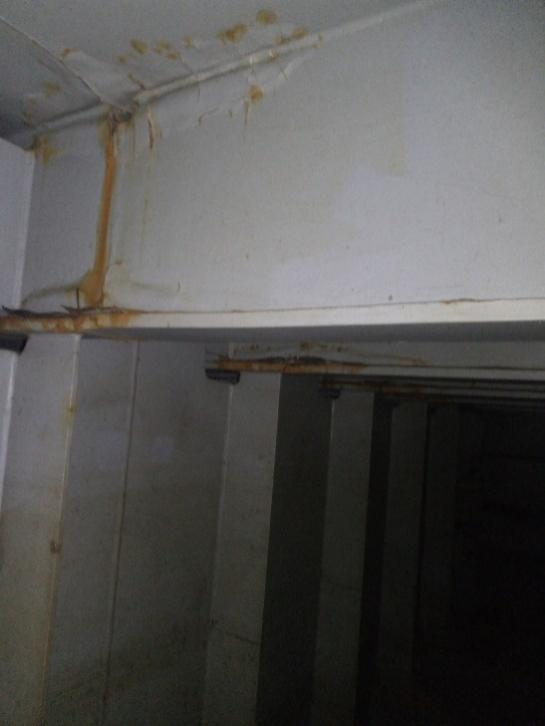corrosion: (79, 126, 136, 309), (213, 348, 364, 387), (4, 301, 141, 341), (113, 38, 176, 65), (31, 70, 71, 105), (214, 17, 249, 54), (30, 131, 62, 170), (243, 0, 280, 31), (140, 120, 168, 149), (289, 26, 318, 50), (244, 82, 268, 104)
